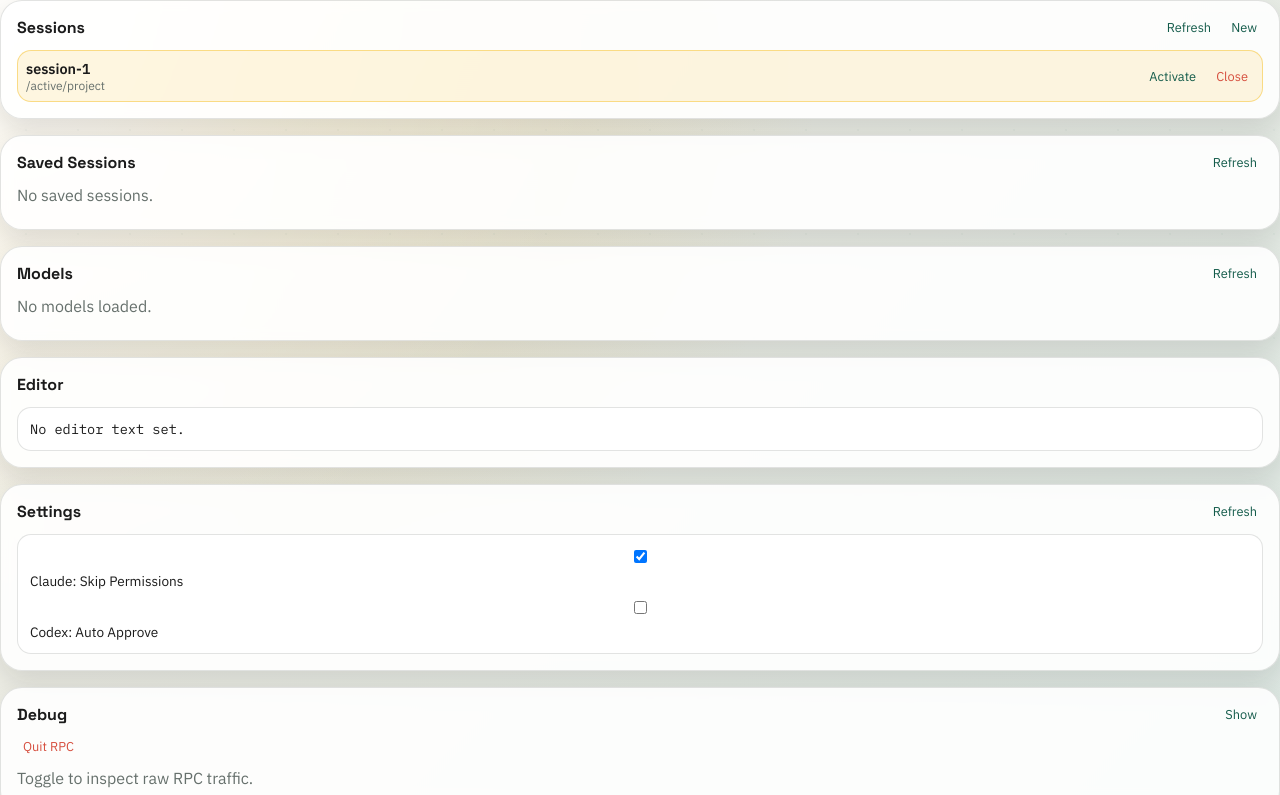
Sidebar › Form Defaults from Active Session › pre-fills CWD from active running session
The image size is (1280, 795).
What coordinates should you click on to do the following:
click the button "New"
I would click on:
 (1244, 28)
Its box is 1225,18 -> 1263,37.
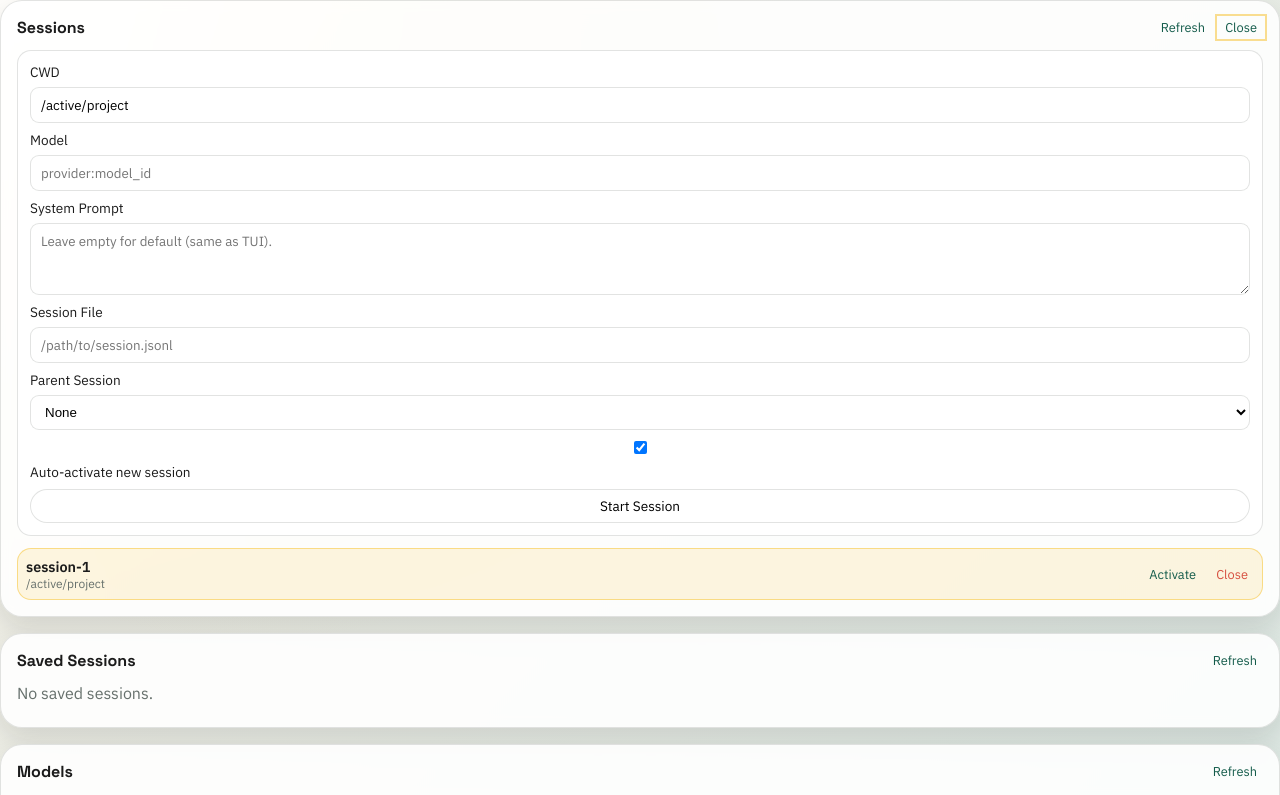
Check: the field labelled "CWD" holds "/active/project", box 30,87 -> 1250,123
